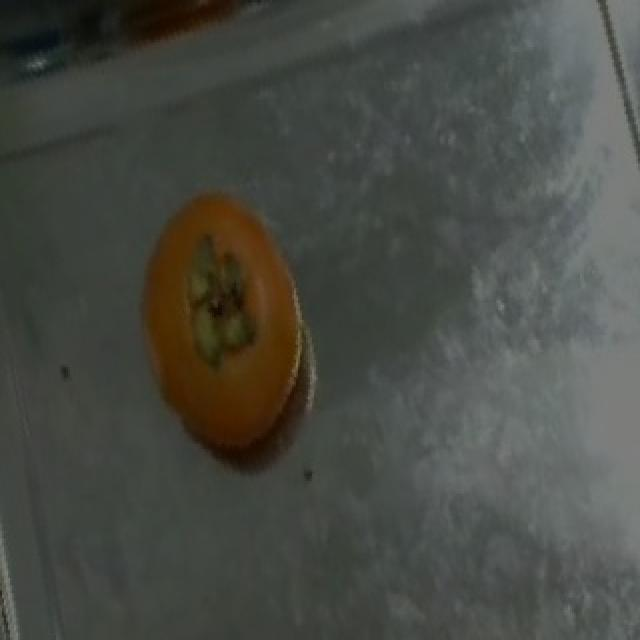Fruit: (110, 159, 332, 479)
